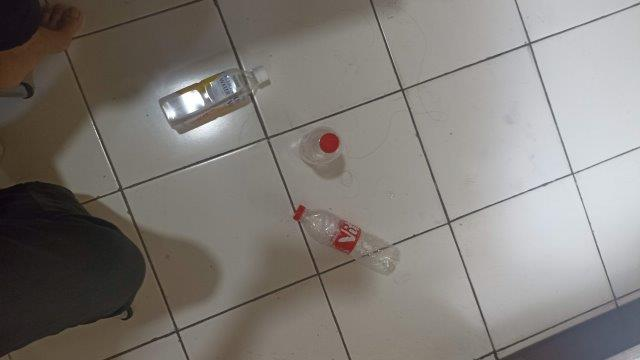botolplastik: (295, 206, 402, 276), (159, 65, 270, 131), (297, 126, 340, 169)
